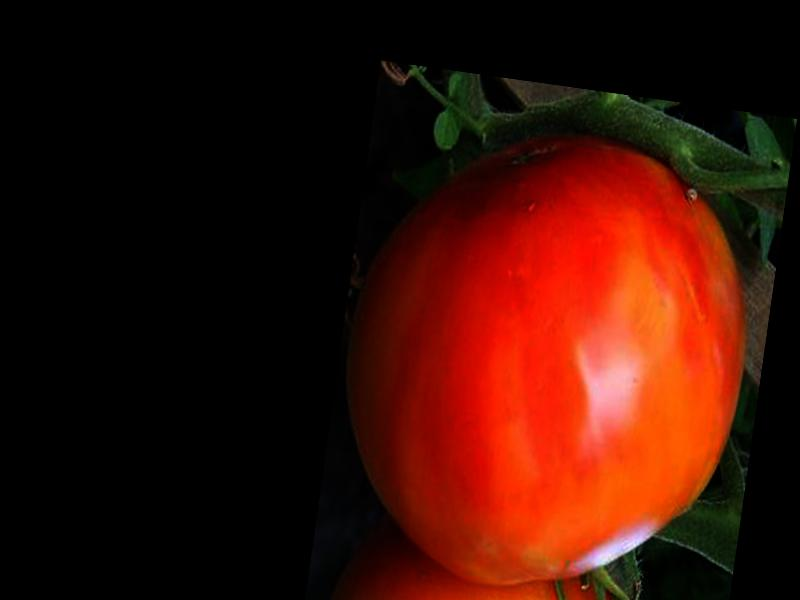Tomato: (319, 109, 771, 600)
